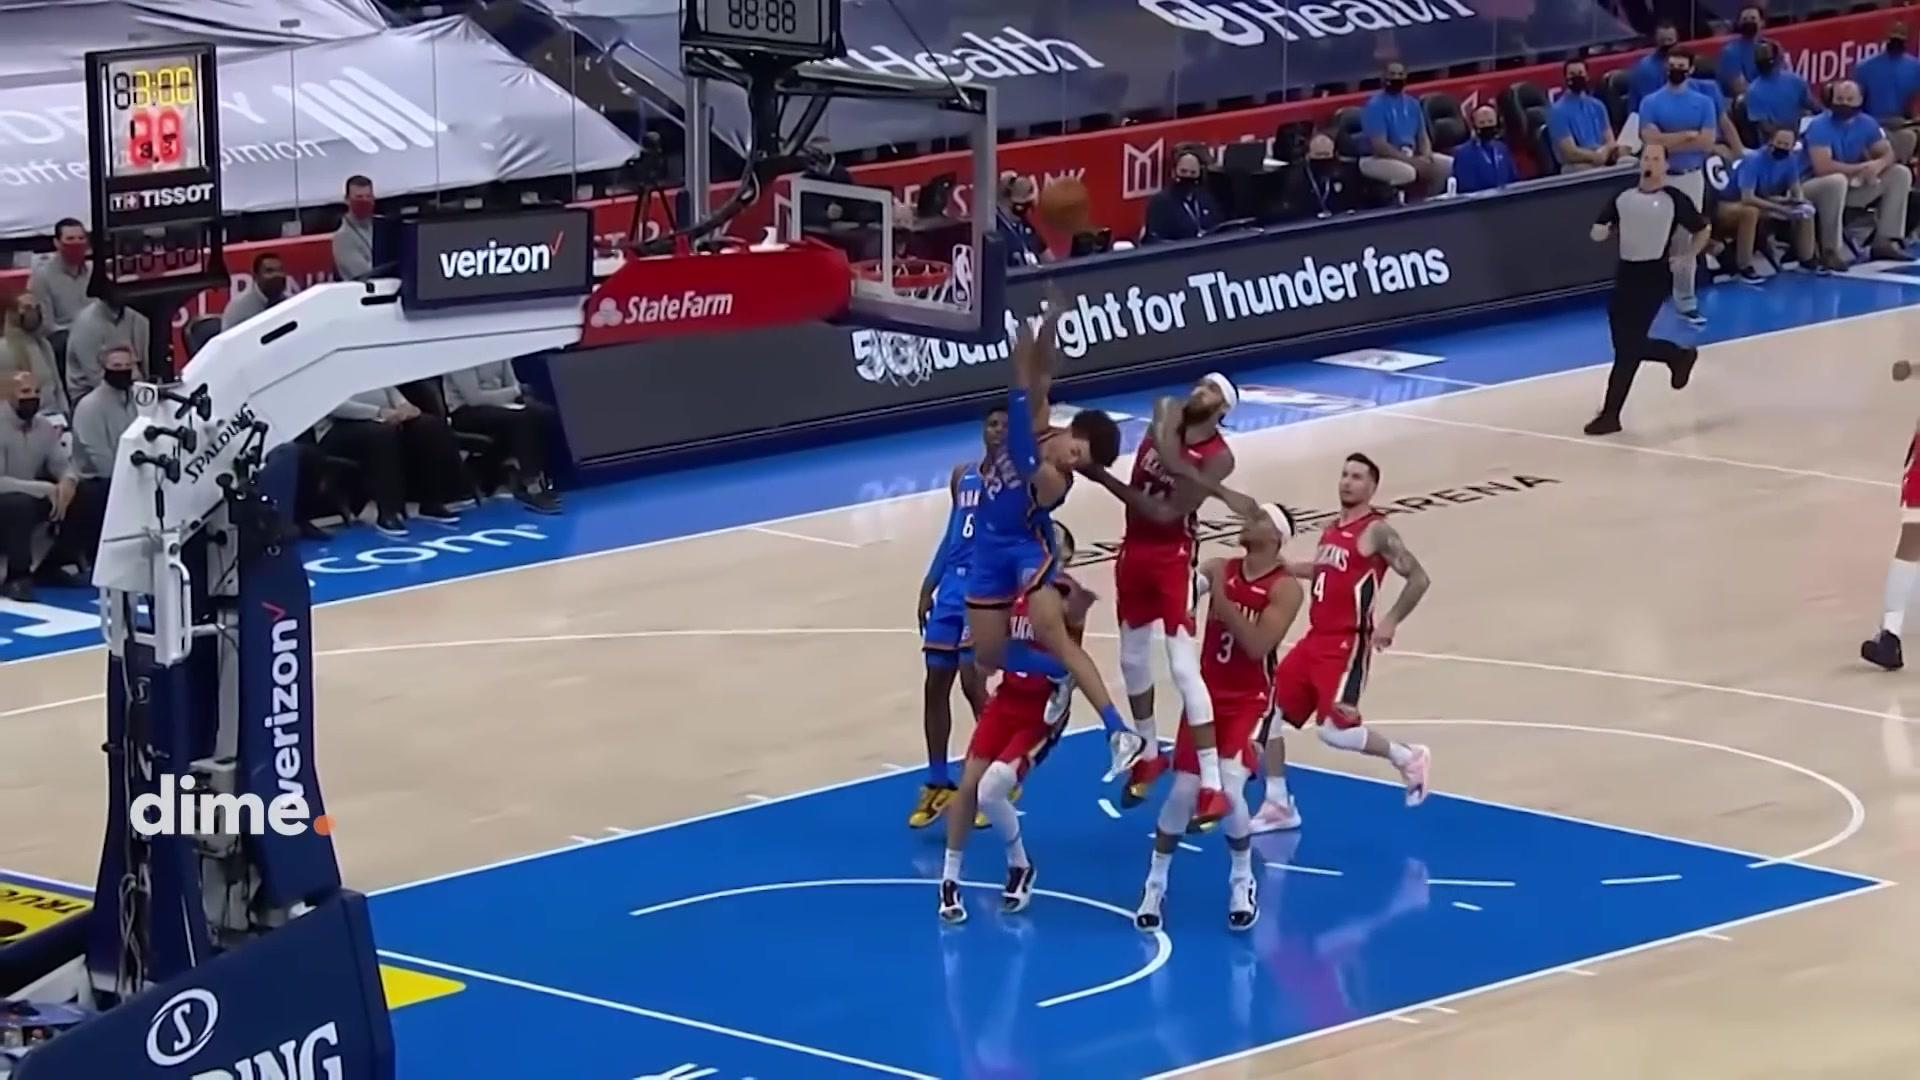foul: (938, 302, 1250, 835)
